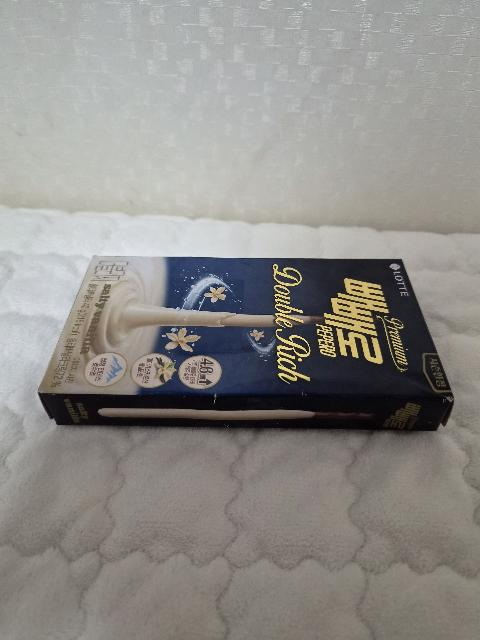pepero: (37, 255, 455, 431)
